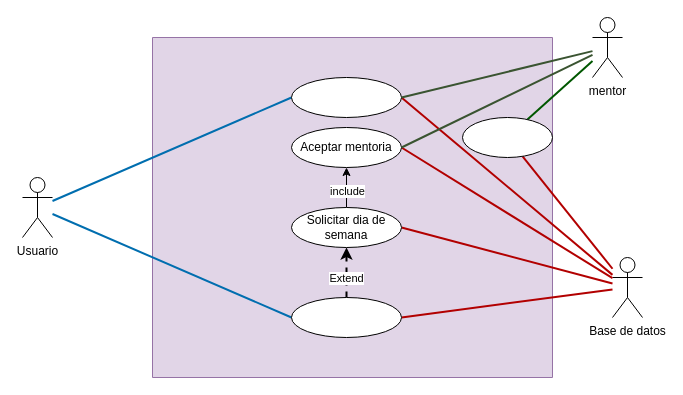
Some shapes in this 683 by 395 pixel diagram are drawn without their labels. The shapes that lost their labels are listed below. From the top down, each one's box as (x1, y1, x2, y2) in pixels, then its label:
(290, 76, 402, 118): Loguearse
(462, 116, 552, 158): Postular mentoria
(290, 296, 402, 338): Buscar mentoría
